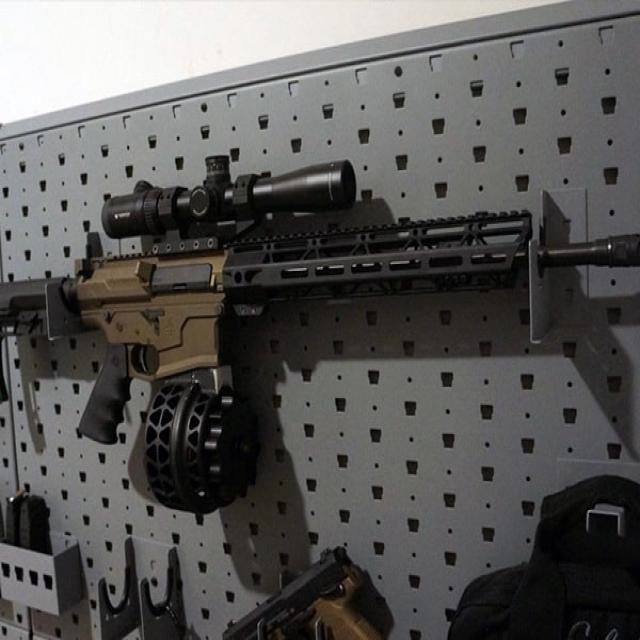HandGun: (222, 558, 384, 640)
Rifle: (0, 156, 640, 514)
